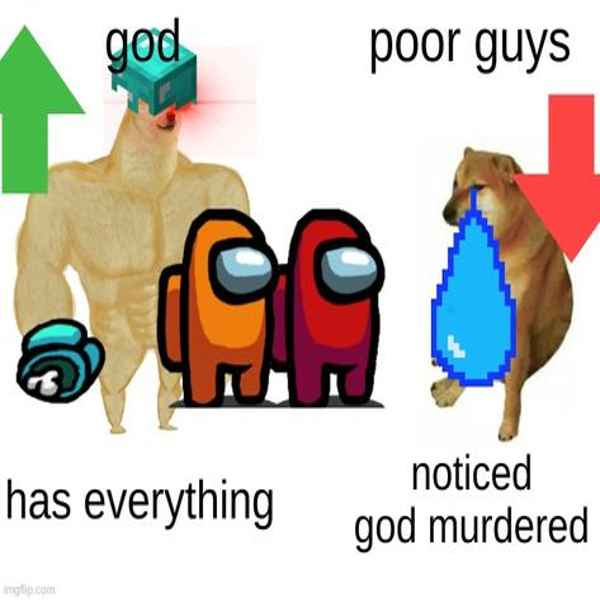doge: (441, 140, 532, 231), (128, 89, 186, 136)
